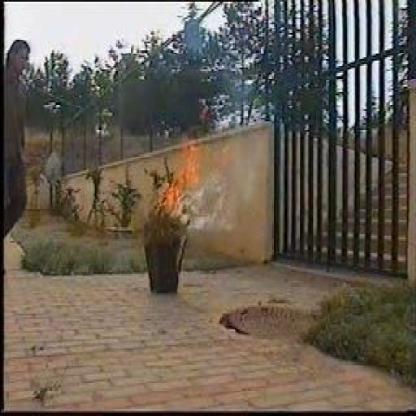-: (185, 185, 235, 236)
foggia-v2-map80-epoch100 - v1 4323: (165, 181, 182, 212)
